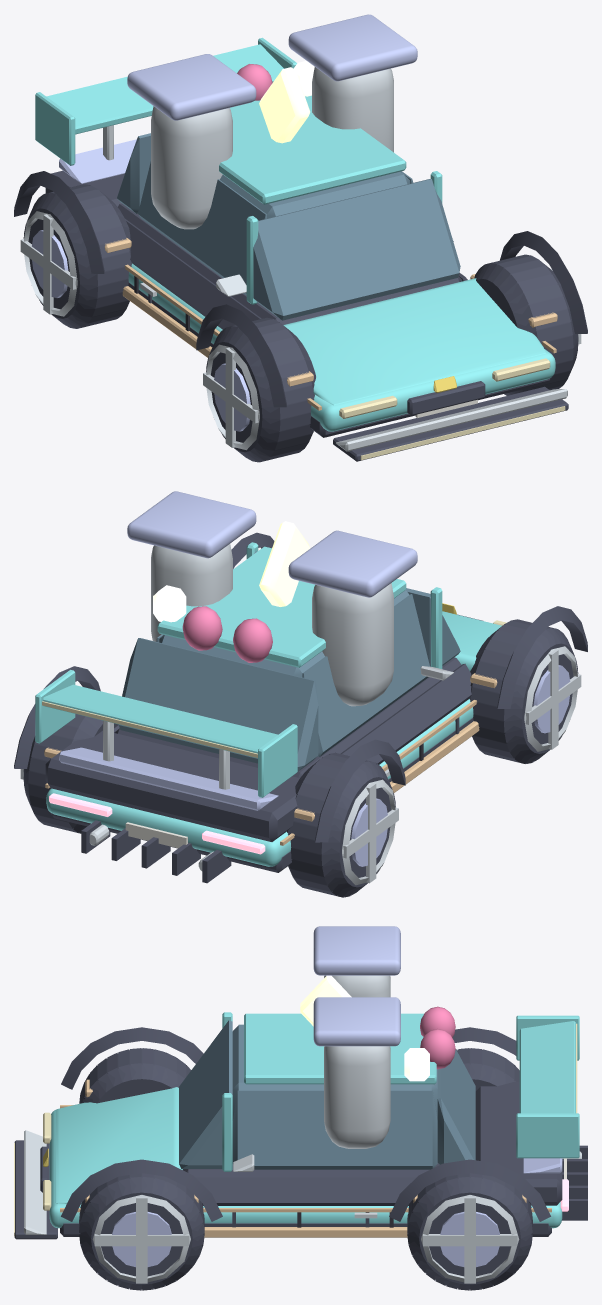
File: castle_cruiser.fbx
3 views of the same model, one above another, from view 1: azimuth 30°, elevation 25°; view 2: azimuth 150°, elevation 25°; view 3: azimuth 270°, elevation 25° (orthographic). The views are drawn at different scales.
Parts seen in each view (by area): view 1: Body, Glass, Trim, Accent2, Accent3, Wheel_FR, Wheel_RR, Wheel_FL, Metal, Accent, Light4, Light (+2 smaller); view 2: Trim, Body, Glass, Accent3, Accent2, Wheel_FR, Wheel_RR, Metal, Wheel_RL, Accent5, Accent, Light4 (+5 smaller); view 3: Body, Trim, Glass, Accent2, Accent3, Metal, Wheel_FL, Wheel_RL, Wheel_FR, Accent, Metal2, Accent5 (+4 smaller).
Boxes of the visible parts, x1=… form: Body: x1=35, y1=37, x2=555, y2=431; Glass: x1=117, y1=133, x2=460, y2=320; Trim: x1=14, y1=170, x2=587, y2=461; Accent2: x1=151, y1=67, x2=567, y2=451; Accent3: x1=59, y1=14, x2=417, y2=183; Wheel_FR: x1=206, y1=317, x2=315, y2=462; Wheel_RR: x1=23, y1=184, x2=131, y2=328; Wheel_FL: x1=474, y1=254, x2=578, y2=395; Metal: x1=20, y1=125, x2=581, y2=450; Accent: x1=104, y1=238, x2=557, y2=410; Light4: x1=259, y1=67, x2=310, y2=143; Light: x1=339, y1=358, x2=565, y2=460; Trim: x1=14, y1=532, x2=587, y2=883; Body: x1=35, y1=542, x2=501, y2=866; Glass: x1=118, y1=551, x2=460, y2=771; Accent3: x1=59, y1=491, x2=417, y2=810; Accent2: x1=151, y1=544, x2=453, y2=706; Wheel_FR: x1=469, y1=619, x2=578, y2=763; Wheel_RR: x1=287, y1=752, x2=395, y2=897; Metal: x1=20, y1=646, x2=581, y2=885; Wheel_RL: x1=23, y1=714, x2=118, y2=833; Accent5: x1=182, y1=606, x2=272, y2=662; Accent: x1=44, y1=673, x2=497, y2=845; Light4: x1=259, y1=521, x2=310, y2=606; Body: x1=49, y1=1012, x2=579, y2=1228; Trim: x1=14, y1=1027, x2=587, y2=1239; Glass: x1=179, y1=1020, x2=475, y2=1169; Accent2: x1=24, y1=975, x2=390, y2=1234; Accent3: x1=313, y1=926, x2=562, y2=1173; Metal: x1=92, y1=1151, x2=581, y2=1283; Wheel_FL: x1=79, y1=1173, x2=204, y2=1290; Wheel_RL: x1=407, y1=1173, x2=532, y2=1290; Wheel_FR: x1=79, y1=1048, x2=191, y2=1103; Accent: x1=60, y1=1079, x2=551, y2=1237; Metal2: x1=112, y1=1212, x2=499, y2=1267; Accent5: x1=420, y1=1006, x2=455, y2=1069.
Bounding box in the file's own units: 3.11 × 2.52 × 5.26.
